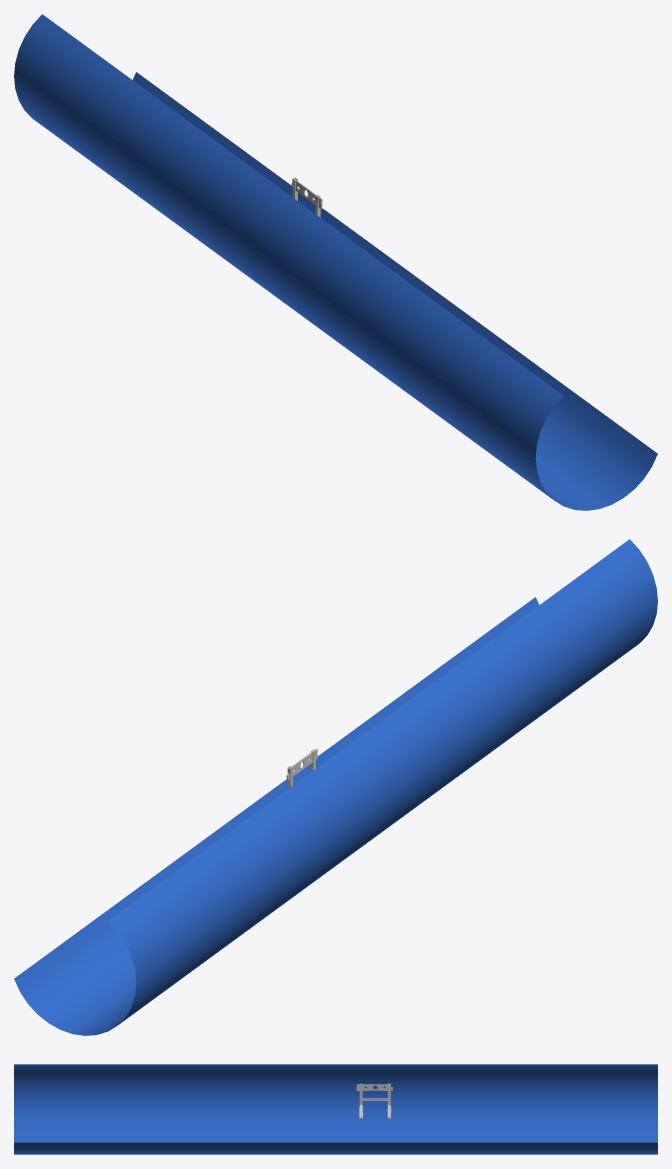
The model's file is pillory.obj.
The picture shows the model from 3 angles, top to bottom: view 1: azimuth 30°, elevation 25°; view 2: azimuth 150°, elevation 25°; view 3: azimuth 270°, elevation 25°; orthographic projection. The views are drawn at different scales.
Parts seen in each view (by area): view 1: Cylinder; view 2: Cylinder; view 3: Cylinder, pillory_Cube.
Boxes of the visible parts, bbox=[...] form: Cylinder: bbox=[14, 14, 657, 510]; Cylinder: bbox=[14, 539, 657, 1035]; Cylinder: bbox=[14, 1064, 657, 1154]; pillory_Cube: bbox=[356, 1083, 392, 1118].
Bounding box in the file's own units: 4.17 × 3.97 × 30.81.
